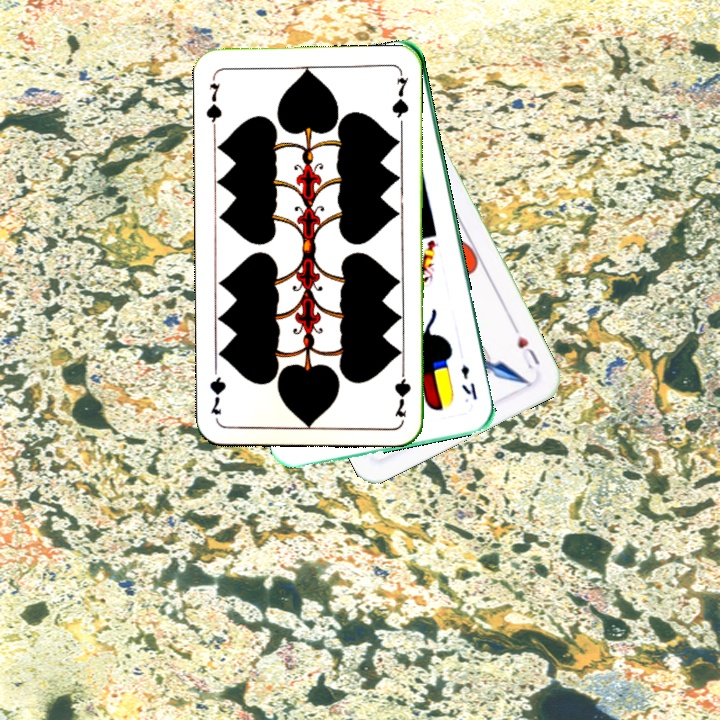EK: (457, 361, 480, 403)
G7: (390, 360, 413, 419), (202, 79, 225, 131)
HU: (508, 320, 543, 372)
